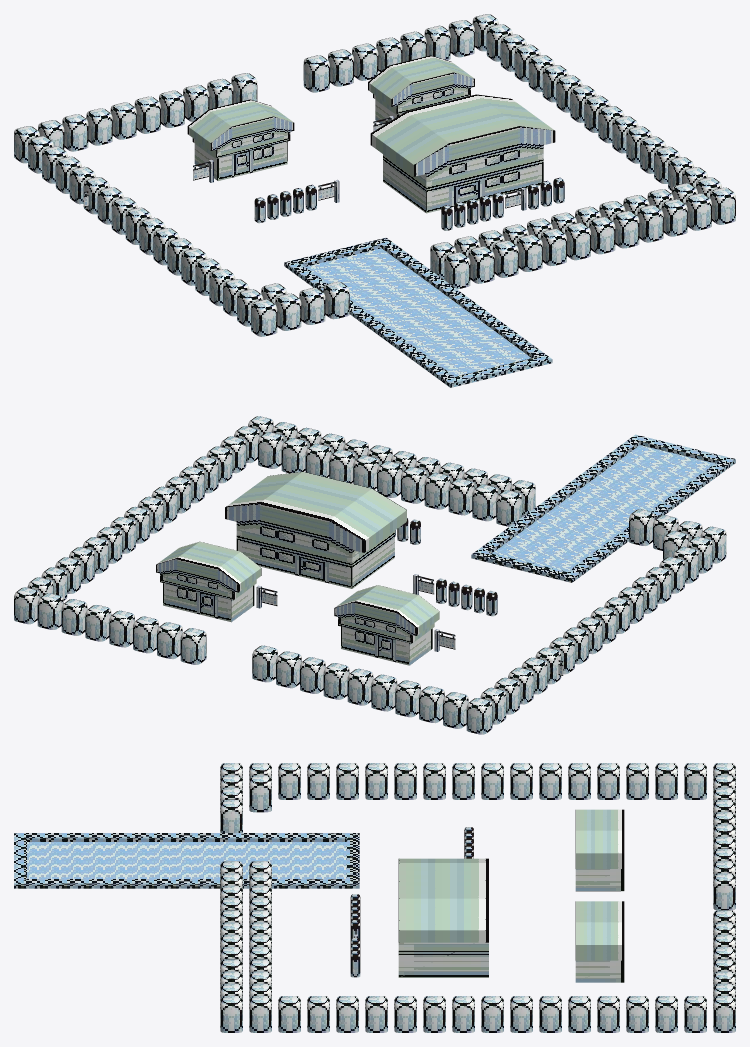
File: Pallet.fbx
3 renders of one model, top to bottom at view 1: azimuth 30°, elevation 25°; view 2: azimuth 150°, elevation 25°; view 3: azimuth 270°, elevation 25°, orthographic. The views are drawn at different scales.
Parts seen in each view (by area): view 1: polySurface186; view 2: polySurface186; view 3: polySurface186.
Boxes of the visible parts, box(x1,y1,x2,y2) form: polySurface186: box(14, 14, 735, 387); polySurface186: box(14, 416, 735, 734); polySurface186: box(14, 763, 735, 1032).
Bounding box in the file's own units: 23.76 × 3.03 × 29.62.
